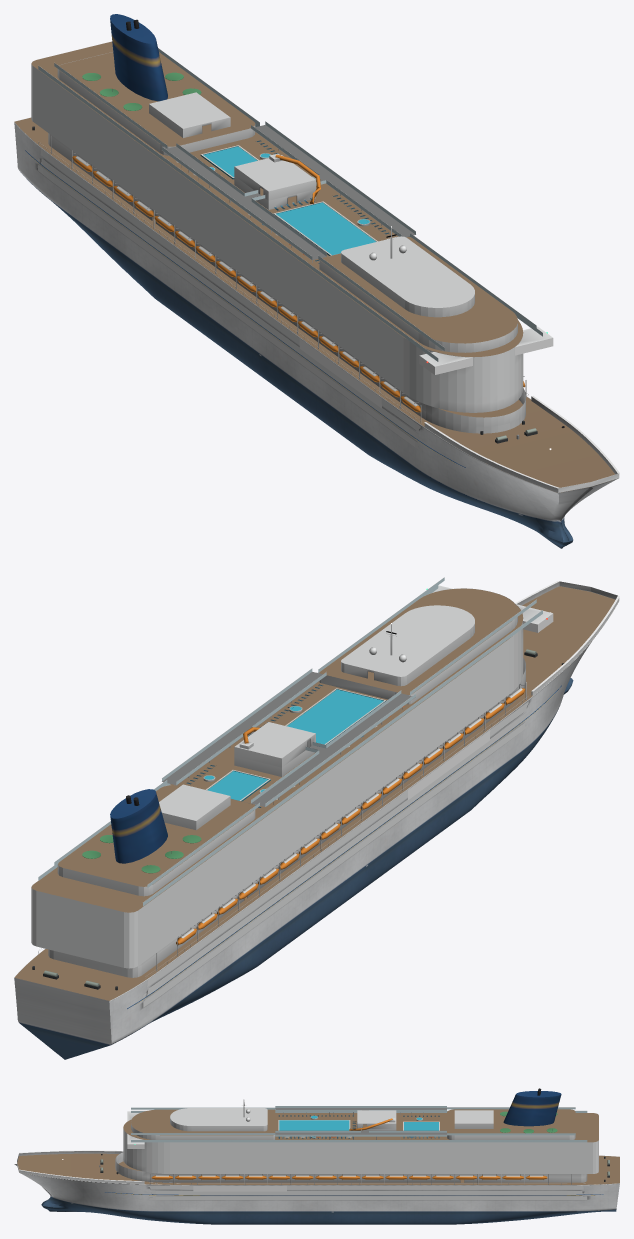
Rendered from kreuz.glb.
3 renders of one model, top to bottom at view 1: azimuth 30°, elevation 25°; view 2: azimuth 150°, elevation 25°; view 3: azimuth 270°, elevation 25°, orthographic. The views are drawn at different scales.
Parts seen in each view (by area): view 1: trim, aussen_teak, rumpf, rund, band, aussen_glas, poolwasser, name-1; view 2: trim, aussen_teak, rumpf, rund, band, aussen_glas, poolwasser, name-1; view 3: trim, rumpf, aussen_teak, rund, band, aussen_glas, poolwasser, name1.
Boxes of the visible parts, box(x1,y1,x2,y2) form: trim: box(31, 41, 619, 492); aussen_teak: box(14, 41, 614, 492); rumpf: box(14, 118, 618, 548); rund: box(14, 14, 564, 492); band: box(37, 148, 421, 451); aussen_glas: box(38, 48, 542, 361); poolwasser: box(203, 146, 375, 255); name-1: box(299, 338, 381, 408); trim: box(31, 581, 619, 989); aussen_teak: box(14, 586, 617, 1000); rumpf: box(14, 586, 611, 1059); rund: box(32, 577, 603, 1008); band: box(143, 701, 528, 1007); aussen_glas: box(38, 577, 542, 906); poolwasser: box(204, 689, 383, 800); name-1: box(408, 730, 490, 799); trim: box(17, 1108, 609, 1184); rumpf: box(14, 1155, 619, 1224); aussen_teak: box(17, 1109, 619, 1184); rund: box(21, 1088, 619, 1195); band: box(147, 1185, 587, 1199); aussen_glas: box(131, 1106, 587, 1142); poolwasser: box(279, 1115, 438, 1137); name1: box(193, 1186, 286, 1191).
Bounding box in the file's own units: 41 × 68.87 × 311.
10 materials, 1 textured.
